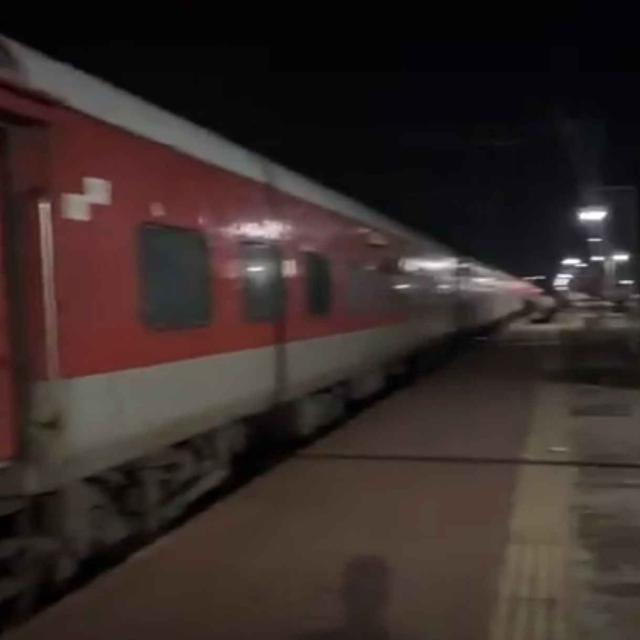train: (2, 29, 508, 552)
